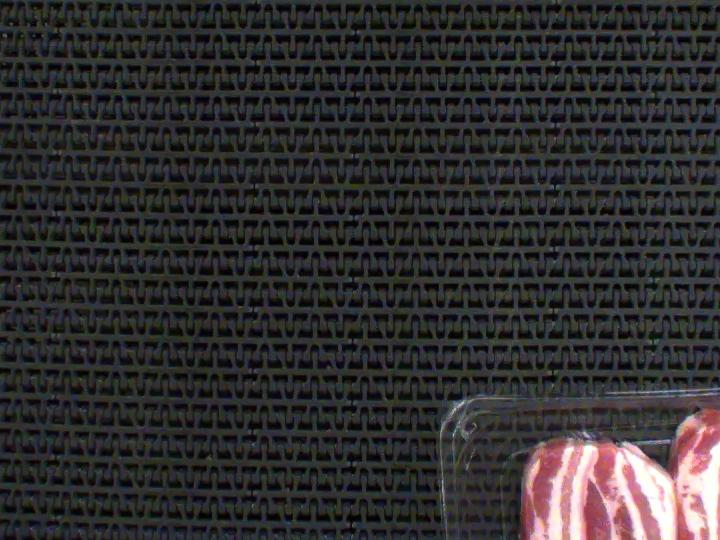packaging-error: (531, 426, 614, 453)
